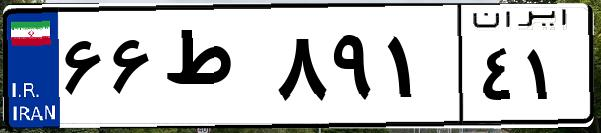1: (385, 28, 445, 110), (525, 38, 570, 115)
4: (475, 38, 525, 113)
6: (57, 26, 110, 100), (110, 28, 158, 98)
8: (270, 28, 330, 110)
9: (330, 28, 385, 110)
ط: (158, 20, 270, 120)
